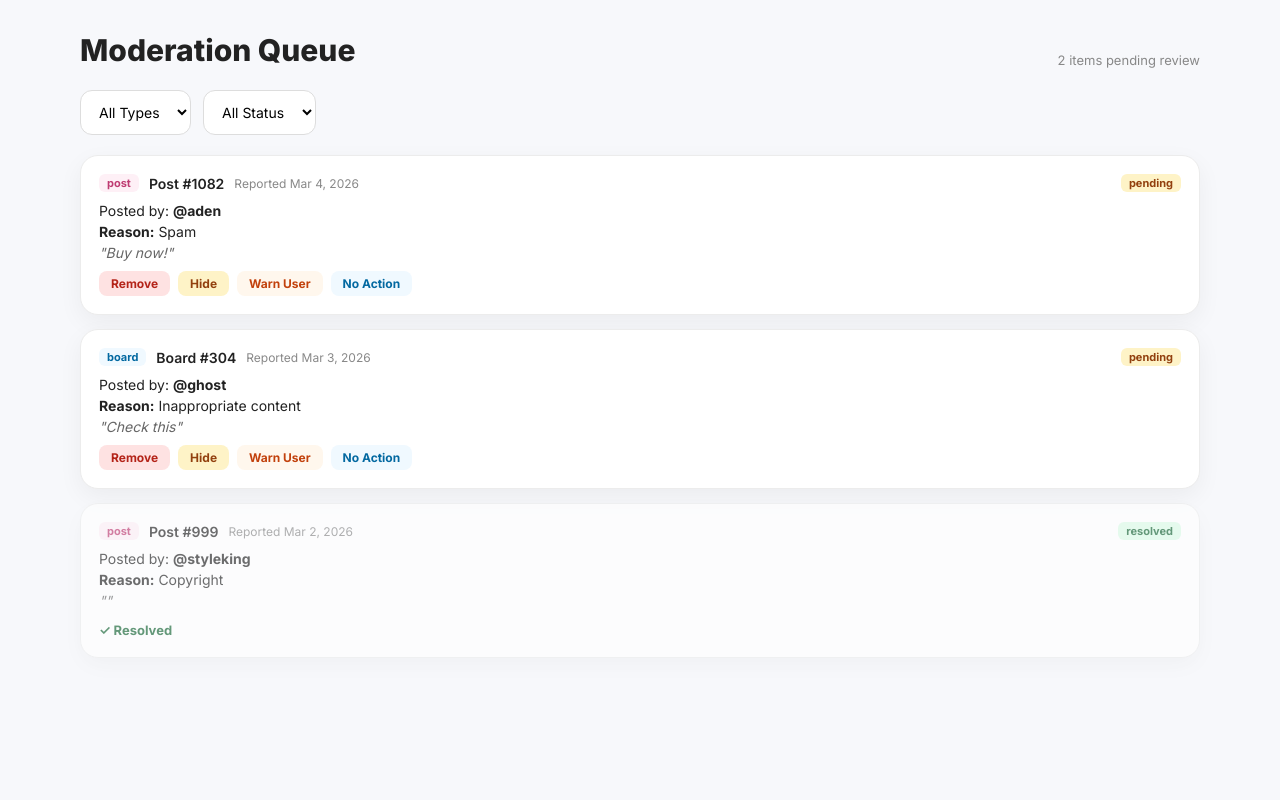
Scenario: filters reports by status
Select "Resolved" in the 2nd dropdown at (260, 112), box left=203, top=90, right=316, bottom=135
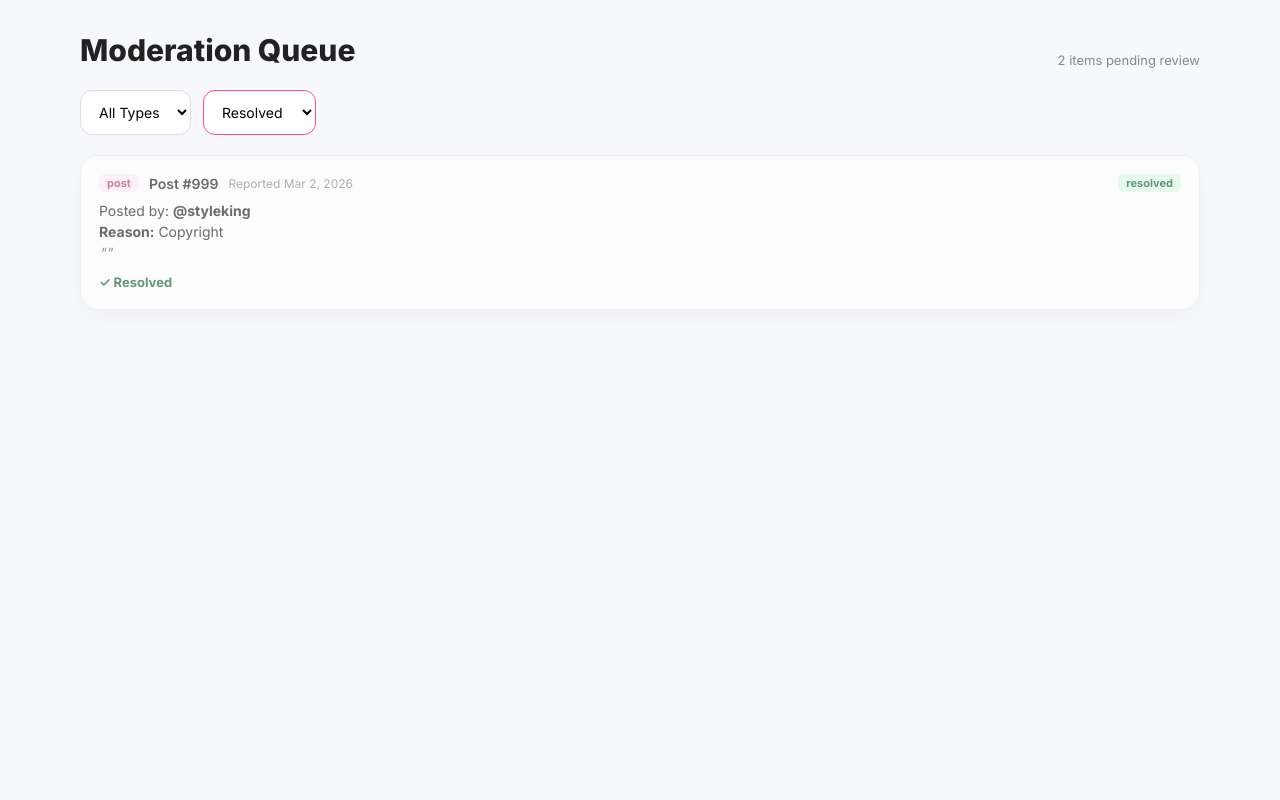
Expected: the text "Post #999" is shown, left=149, top=174, right=218, bottom=192
Expected: the text "Post #1082" is gone
Expected: the text "Board #304" is gone
